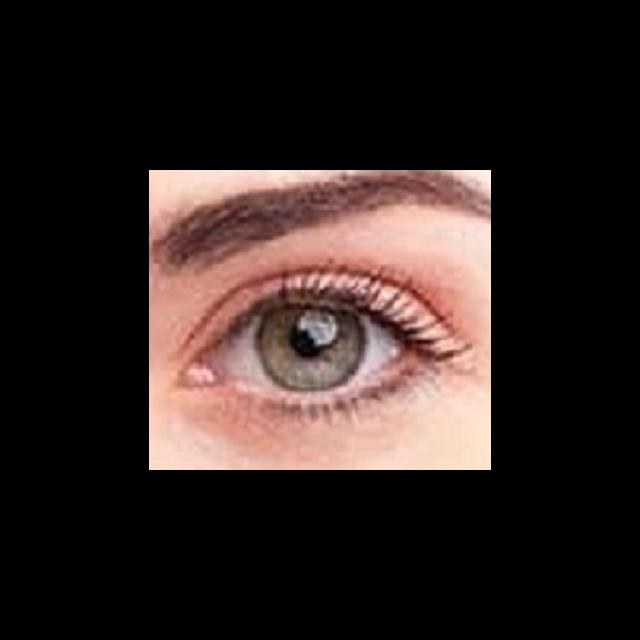eye: (217, 302, 398, 400)
iris: (257, 306, 366, 393)
